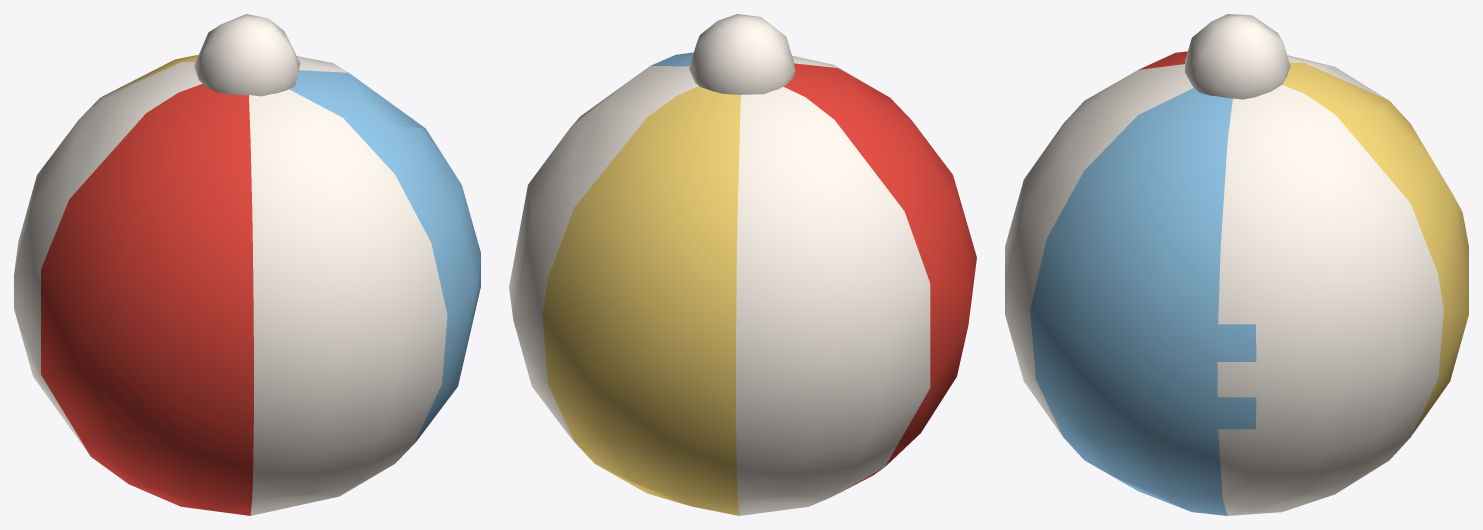
The model's file is beach_ball.glb.
3 renders of one model, left to right at view 1: azimuth 30°, elevation 25°; view 2: azimuth 150°, elevation 25°; view 3: azimuth 270°, elevation 25°, orthographic.
Parts seen in each view (by area): view 1: beach_ball; view 2: beach_ball; view 3: beach_ball.
Boxes of the visible parts, left/top/right/bottom form: beach_ball: left=14, top=14, right=480, bottom=515; beach_ball: left=509, top=14, right=976, bottom=515; beach_ball: left=1005, top=14, right=1468, bottom=515.
Bounding box in the file's own units: 0.431 × 0.49 × 0.4325.
Materials: 1 (1 with a texture image).
